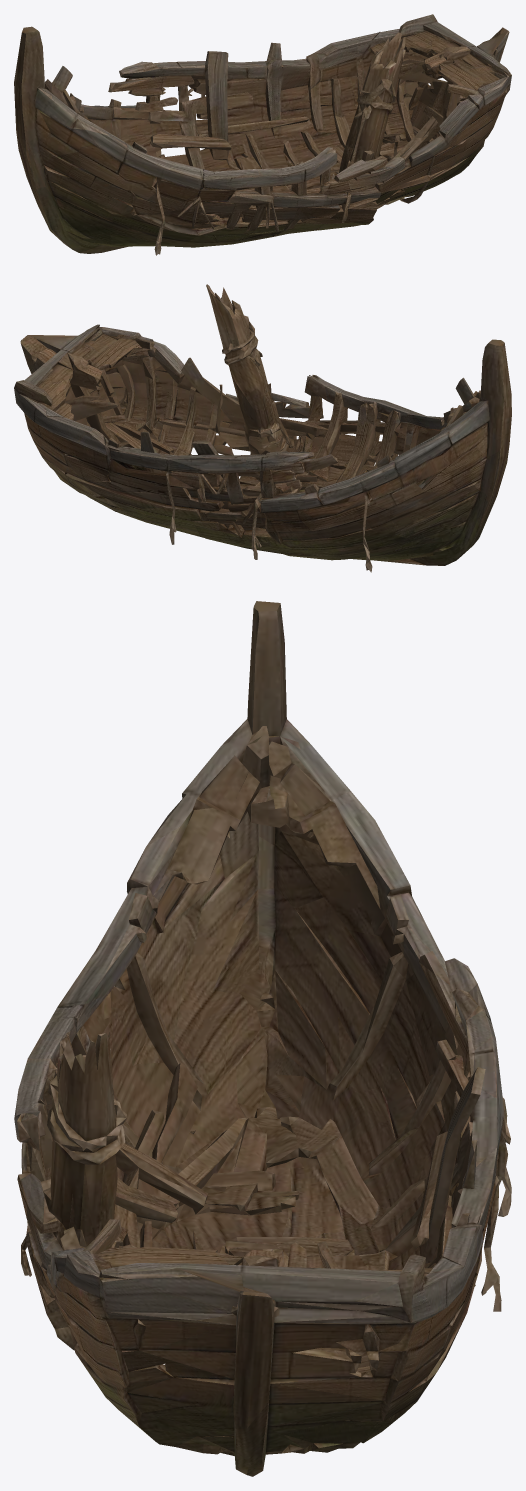
File: poi_wreck.glb
3 views of the same model, one above another, from view 1: azimuth 30°, elevation 25°; view 2: azimuth 150°, elevation 25°; view 3: azimuth 270°, elevation 25° (orthographic). The views are drawn at different scales.
Visible parts, largest first — view 1: poi_wreck; view 2: poi_wreck; view 3: poi_wreck.
Part boxes in pixels (x1=…): poi_wreck: x1=14, y1=14, x2=511, y2=255; poi_wreck: x1=14, y1=284, x2=511, y2=572; poi_wreck: x1=14, y1=601, x2=511, y2=1476.
Bounding box in the file's own units: 15 × 7.15 × 6.62.
Materials: 1 (1 with a texture image).
